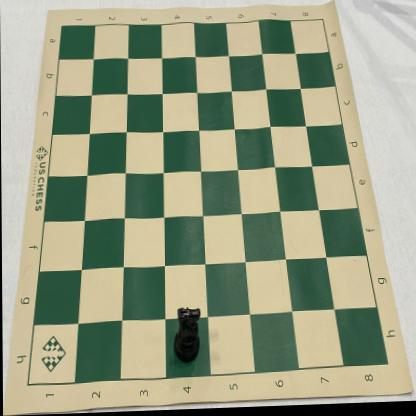black-knight: (173, 308, 201, 366)
